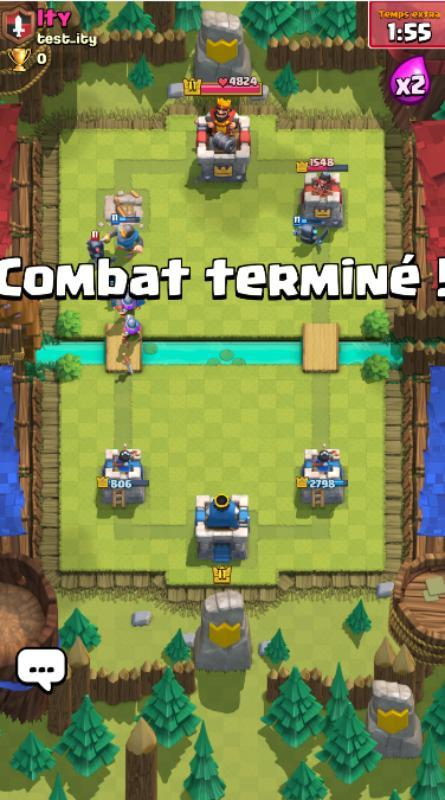chevalier: (98, 213, 146, 259)
mini_PEKKA: (292, 216, 330, 248), (85, 230, 117, 263)
mousquetaire: (119, 313, 143, 347), (115, 293, 138, 318)
